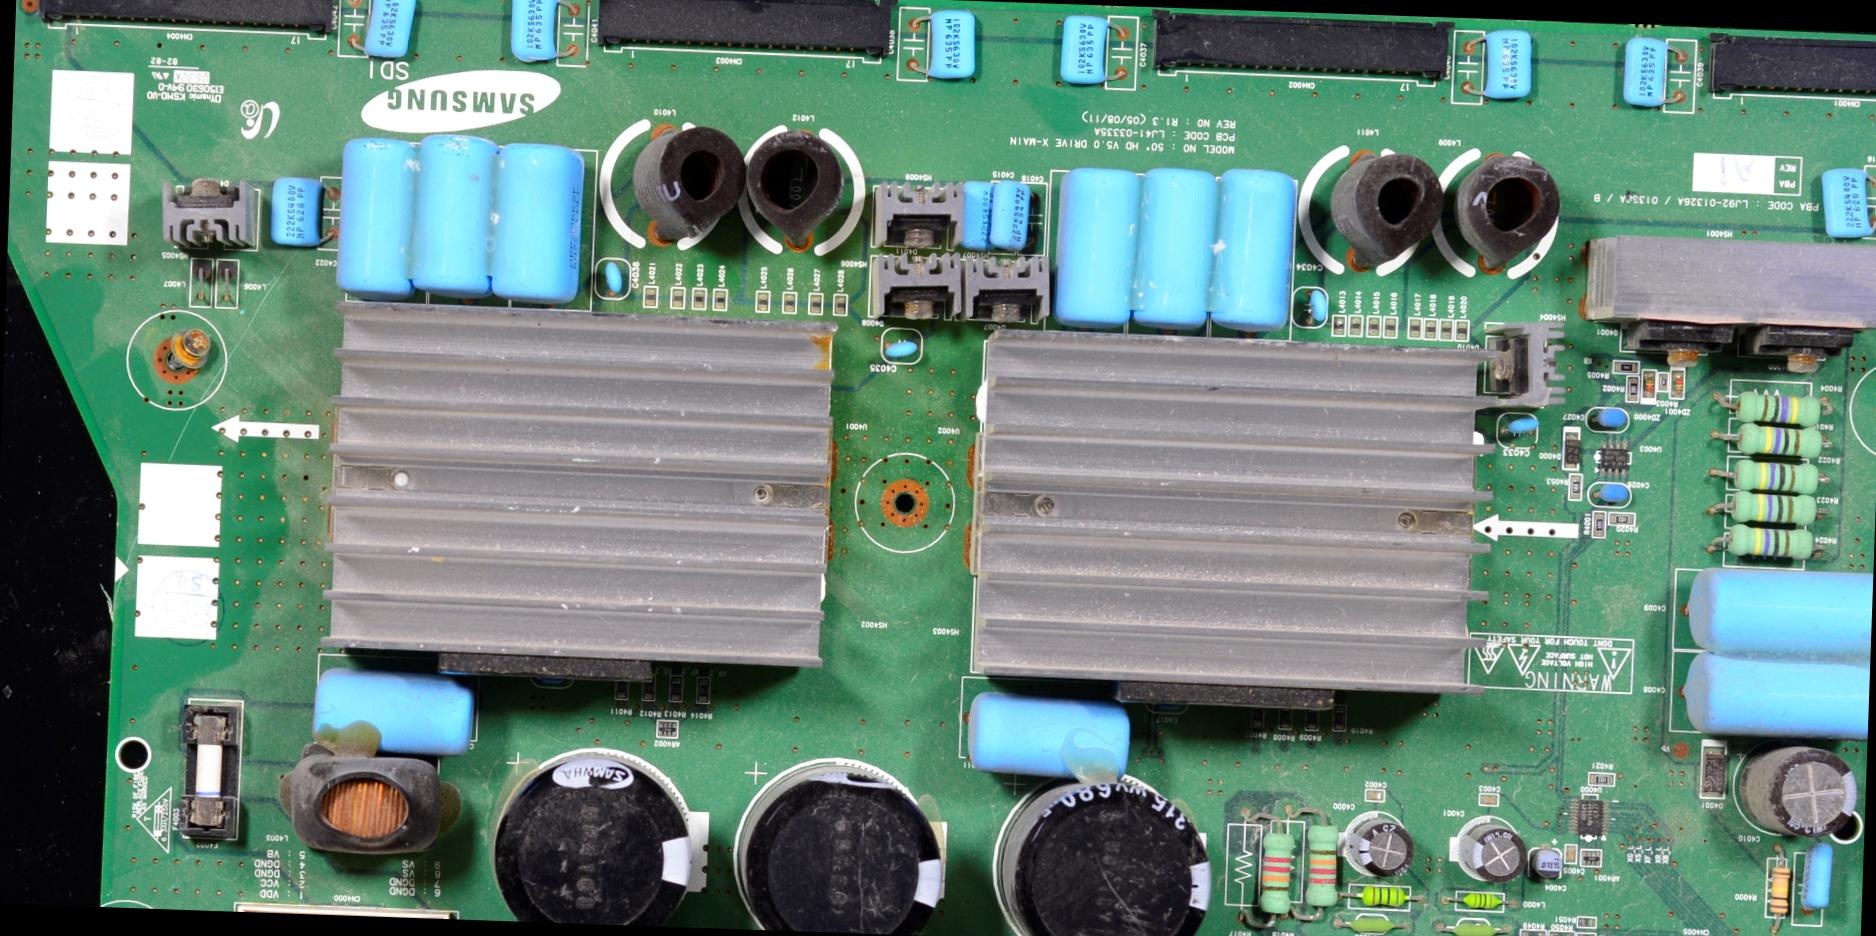Capacitor Jumper: (740, 770, 945, 936), (1007, 780, 1211, 935), (498, 756, 682, 926), (960, 682, 1148, 790), (1686, 568, 1872, 662), (309, 662, 481, 762), (1683, 656, 1869, 744), (494, 143, 587, 303), (1052, 166, 1138, 329), (336, 140, 421, 294), (1134, 166, 1213, 328), (1216, 167, 1292, 332), (417, 134, 494, 290), (1754, 746, 1862, 844), (1458, 819, 1530, 888), (267, 176, 334, 250), (508, 0, 579, 64), (1817, 164, 1875, 240), (348, 0, 420, 61), (1346, 820, 1414, 883), (993, 180, 1033, 249), (1797, 842, 1831, 920), (963, 178, 995, 249), (1528, 844, 1563, 886), (594, 262, 628, 298), (1591, 483, 1632, 508), (1300, 287, 1326, 325), (1502, 417, 1542, 440), (885, 331, 916, 360), (1590, 408, 1626, 431), (1474, 781, 1504, 808), (1361, 773, 1387, 804), (1564, 843, 1577, 866)
IC: (1564, 792, 1612, 842), (1593, 435, 1637, 480)
Resistor Jumper: (1232, 799, 1300, 934), (1708, 378, 1836, 424), (1711, 418, 1842, 462), (1706, 522, 1833, 565), (1709, 456, 1842, 494), (1708, 488, 1836, 526), (1300, 798, 1340, 914), (1766, 858, 1789, 928), (610, 670, 636, 722), (686, 672, 714, 714), (635, 672, 663, 714), (665, 670, 687, 712), (1331, 700, 1350, 742), (1247, 706, 1270, 740), (1304, 704, 1320, 742), (1275, 706, 1294, 735), (1608, 510, 1638, 526), (1625, 374, 1641, 400), (1671, 368, 1684, 398), (1590, 770, 1614, 786), (1609, 358, 1638, 370), (1592, 511, 1605, 535), (1568, 474, 1580, 496), (1576, 918, 1596, 930), (1518, 929, 1547, 935), (1549, 931, 1574, 935), (1578, 931, 1594, 935)
iC: (426, 893, 427, 894)
